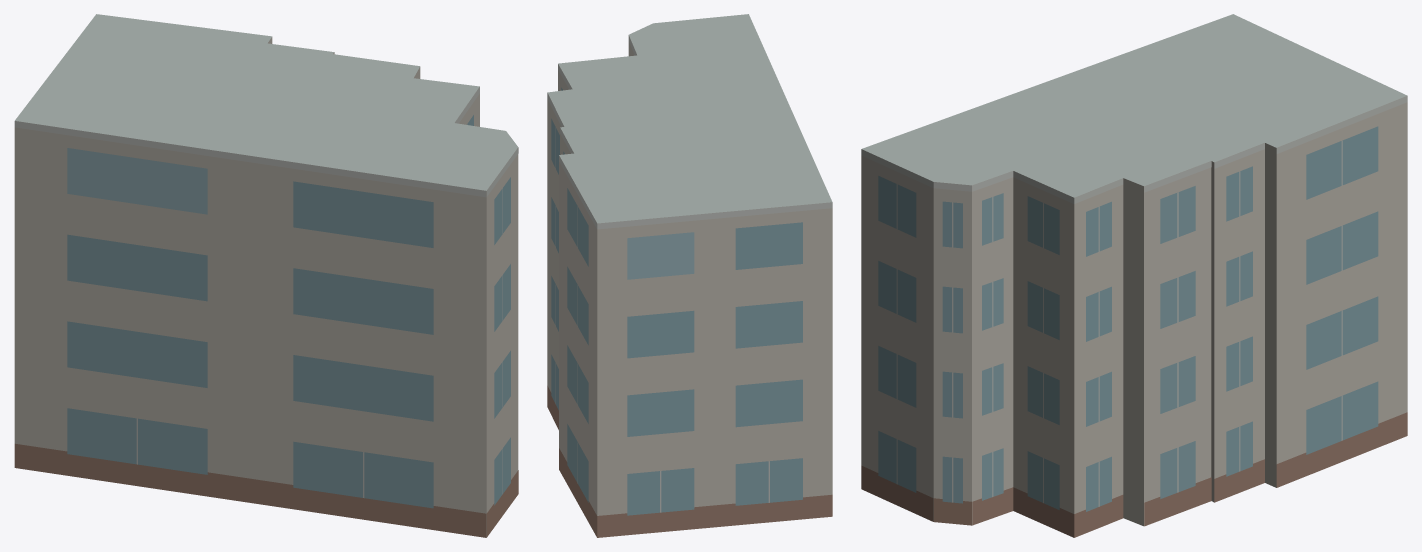
Rendered from survey-upis-32806287.glb.
The picture shows the model from 3 angles, left to right: view 1: azimuth 30°, elevation 25°; view 2: azimuth 150°, elevation 25°; view 3: azimuth 270°, elevation 25°; orthographic projection. The views are drawn at different scales.
Parts seen in each view (by area): view 1: survey-upis-32806287.tmp; view 2: survey-upis-32806287.tmp; view 3: survey-upis-32806287.tmp.
Boxes of the visible parts, x1,y1,x2,y2 form: survey-upis-32806287.tmp: [14, 14, 518, 537]; survey-upis-32806287.tmp: [547, 14, 832, 537]; survey-upis-32806287.tmp: [861, 14, 1407, 537].
Size of the model in its own units: 14.95 by 12.9 by 18.79.
